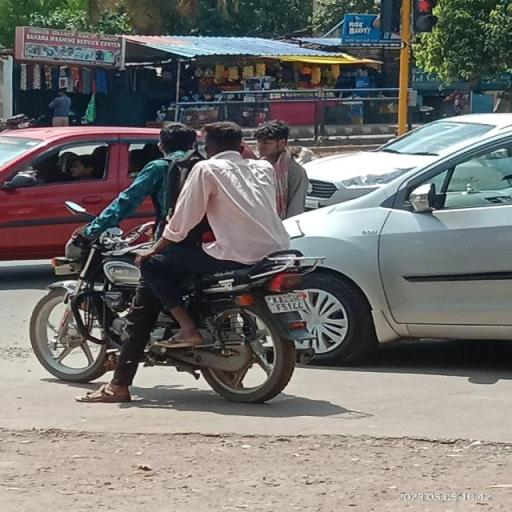bike: (3, 119, 406, 413)
numberplate: (272, 298, 300, 311)
withouthelmet: (159, 122, 197, 154), (205, 122, 238, 154)
